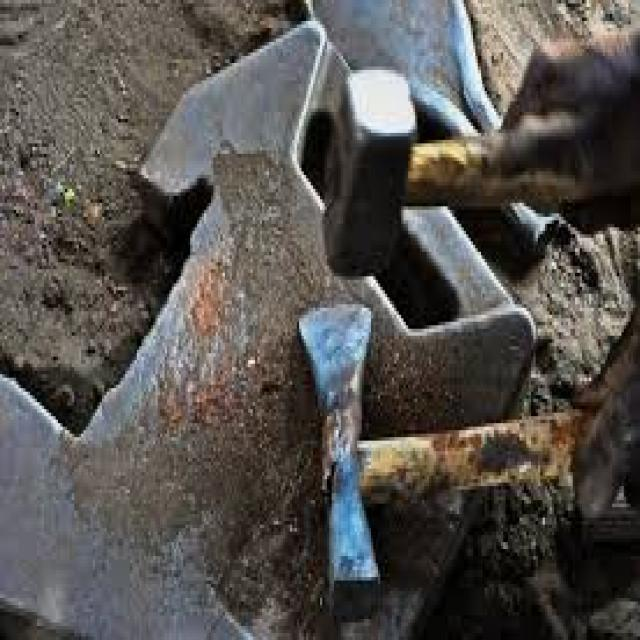hammer: (294, 301, 640, 626), (290, 58, 640, 292)
